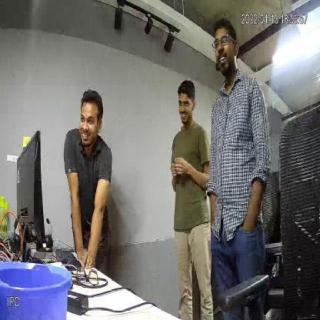knife: (170, 142, 178, 166)
